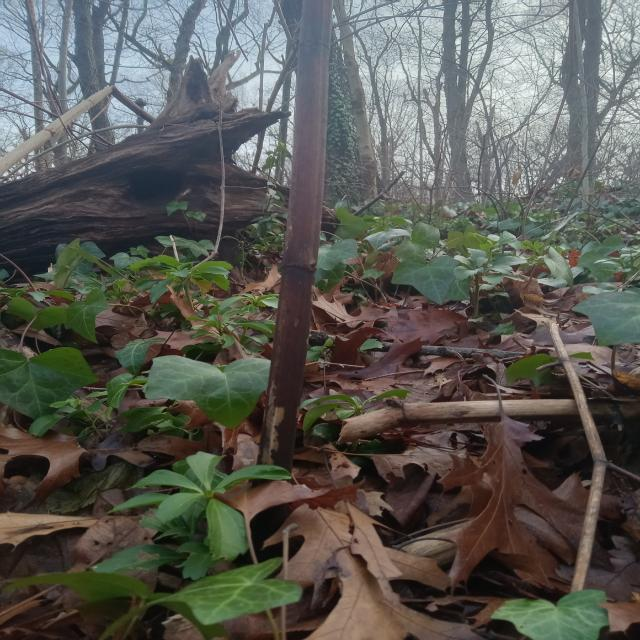knotweed-stems: (254, 1, 336, 483), (517, 310, 612, 595)
tree trunks: (1, 51, 294, 281), (559, 0, 603, 222)
